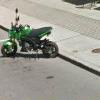Motorcycle: (2, 7, 60, 65)
